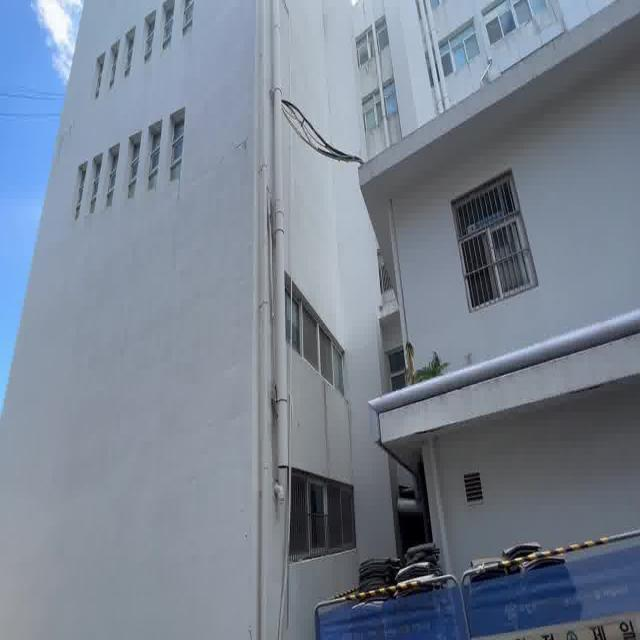building: (65, 25, 640, 640)
